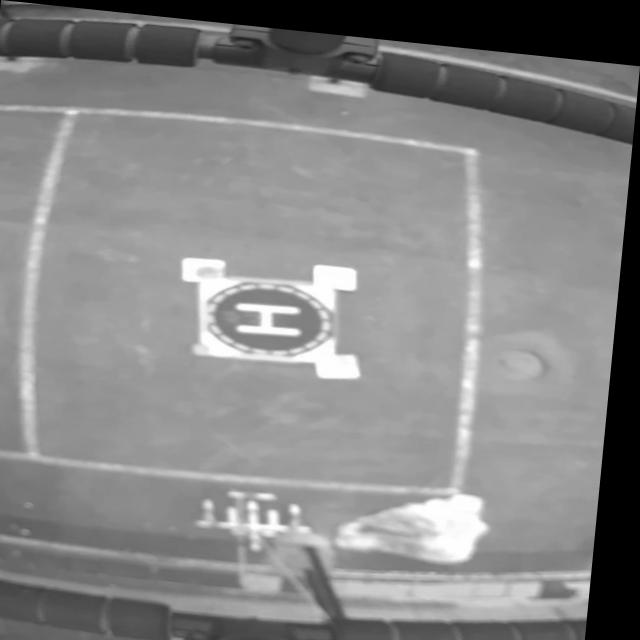Helipad: (237, 296, 307, 330)
